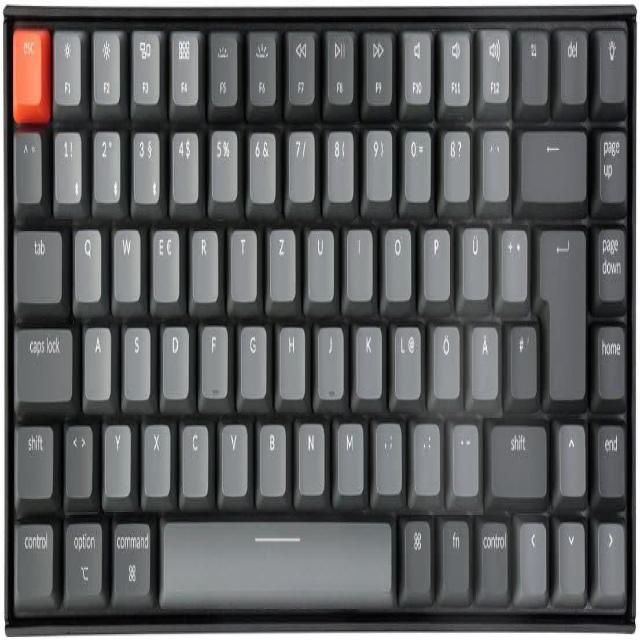0: (402, 122, 431, 200)
1: (52, 122, 81, 202)
2: (91, 122, 120, 202)
3: (131, 124, 160, 202)
4: (170, 124, 198, 200)
5: (209, 122, 237, 199)
6: (247, 124, 276, 200)
7: (286, 124, 315, 200)
8: (325, 124, 354, 200)
9: (363, 122, 392, 199)
a: (82, 320, 111, 398)
accent: (480, 122, 508, 197)
ae: (469, 316, 498, 396)
alt-left: (65, 517, 106, 604)
b: (257, 415, 286, 493)
c: (179, 416, 208, 493)
caret: (12, 122, 41, 200)
comma: (373, 413, 401, 490)
d: (160, 318, 188, 396)
del: (519, 122, 586, 199)
e: (150, 221, 179, 299)
enter: (537, 221, 587, 400)
f: (199, 318, 227, 394)
g: (237, 318, 266, 394)
h: (276, 318, 304, 396)
hash: (508, 317, 536, 395)
i: (344, 221, 372, 297)
j: (315, 318, 343, 396)
k: (354, 318, 382, 394)
keyboard: (1, 5, 637, 636)
l: (392, 318, 421, 396)
less: (63, 417, 92, 495)
m: (334, 414, 363, 492)
minus: (450, 416, 478, 493)
n: (295, 415, 324, 491)
o: (383, 219, 412, 297)
oe: (432, 318, 460, 396)
p: (422, 221, 450, 297)
plus: (499, 219, 527, 297)
point: (411, 415, 440, 490)
q: (72, 219, 101, 299)
r: (190, 221, 218, 299)
s: (121, 320, 150, 398)
shift-left: (13, 416, 53, 496)
shift-lock: (13, 319, 72, 399)
shift-right: (488, 415, 547, 494)
space: (158, 511, 394, 606)
ss: (441, 122, 469, 199)
strg-left: (12, 514, 53, 605)
strg-right: (476, 512, 509, 596)
t: (229, 221, 257, 299)
tab: (13, 221, 62, 300)
u: (305, 221, 334, 299)
ue: (460, 218, 488, 297)
v: (219, 415, 248, 493)
w: (111, 219, 140, 299)
x: (142, 417, 170, 495)
y: (102, 417, 130, 495)
z: (267, 221, 295, 299)
